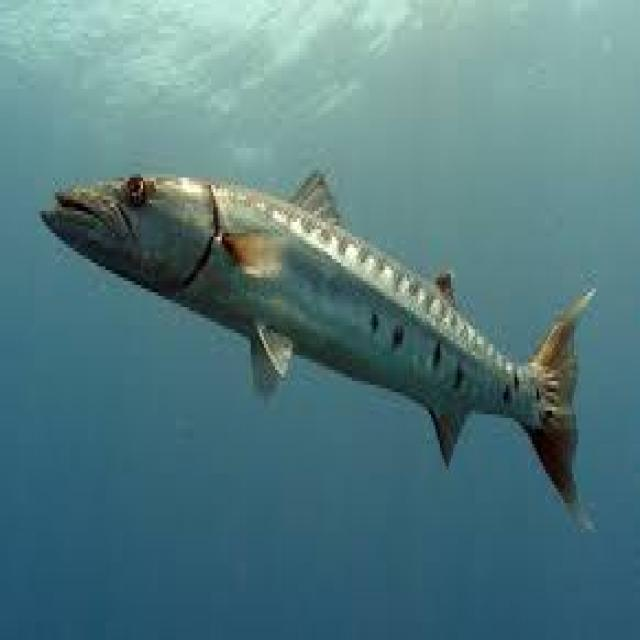Barracuda: (35, 163, 598, 544)
